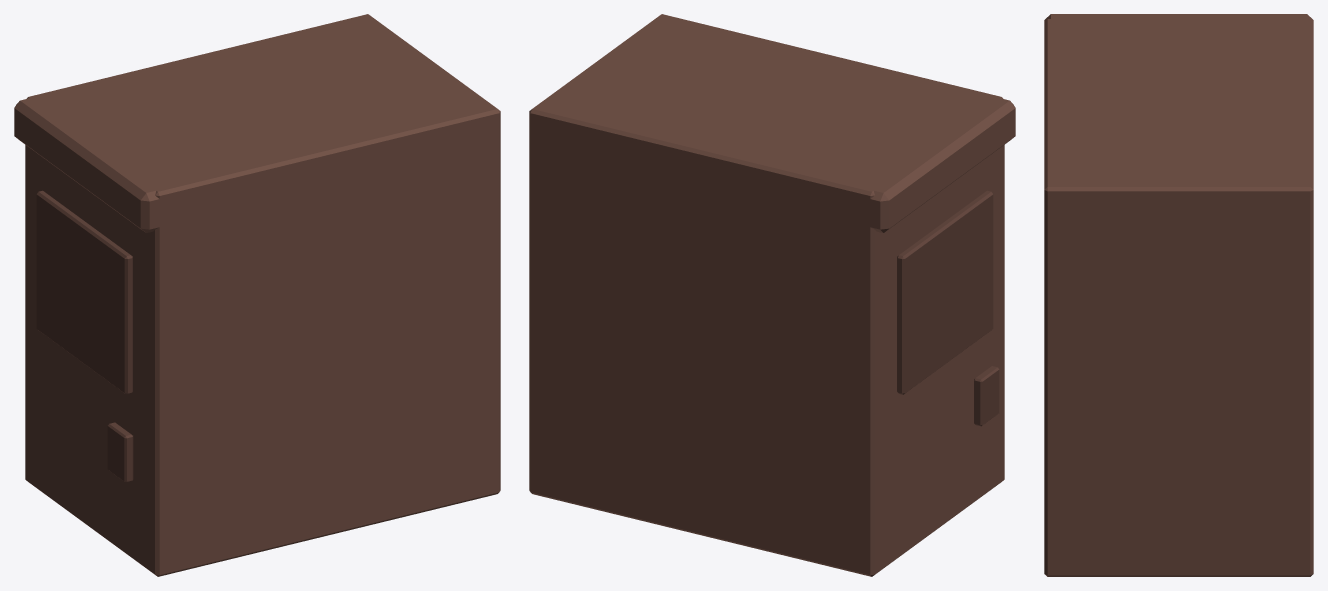
File: pupitre_perimetre.glb
3 views of the same model, side by side, from view 1: azimuth 30°, elevation 25°; view 2: azimuth 150°, elevation 25°; view 3: azimuth 270°, elevation 25° (orthographic).
Visible parts, largest first — view 1: pupitre_perimetre; view 2: pupitre_perimetre; view 3: pupitre_perimetre.
Boxes of the visible parts, x1,y1,x2,y2 form: pupitre_perimetre: (14, 14, 500, 576); pupitre_perimetre: (529, 14, 1015, 576); pupitre_perimetre: (1044, 14, 1313, 576).
Size of the model in its own units: 1.12 by 1.15 by 0.72.
1 material, 1 textured.
